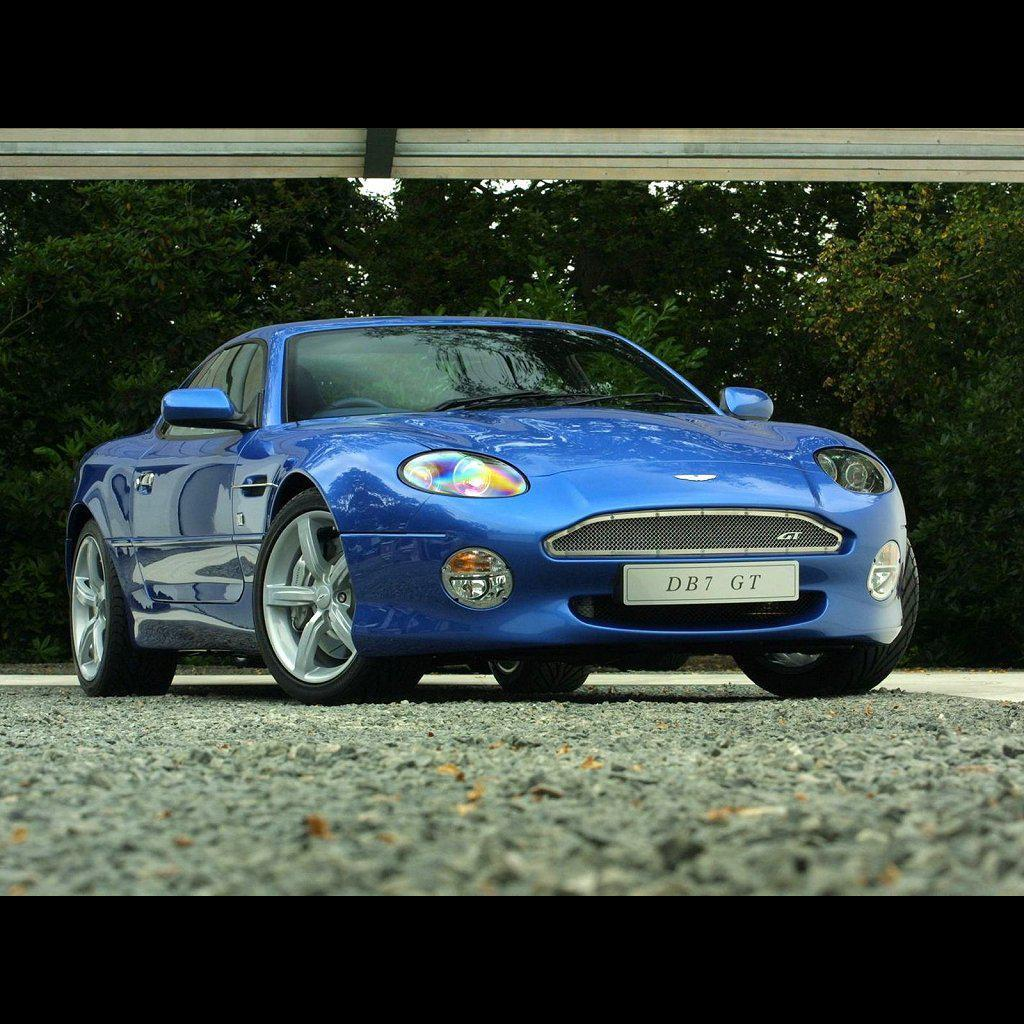aero: (232, 474, 270, 495)
bodysurface: (133, 438, 244, 645)
coupe: (63, 314, 921, 706)
dlo: (159, 341, 263, 433)
fender: (257, 426, 400, 557), (70, 436, 143, 538)
foglamp: (441, 545, 514, 611), (866, 536, 902, 600)
frontbumper: (337, 531, 907, 657)
grill: (538, 507, 853, 556)
headlamp: (396, 449, 529, 498), (811, 446, 892, 496)
hood: (312, 406, 846, 479)
mirror: (162, 387, 260, 435), (716, 385, 775, 420)
opening: (566, 589, 827, 633)
wheel: (262, 509, 368, 684), (72, 537, 108, 679)
